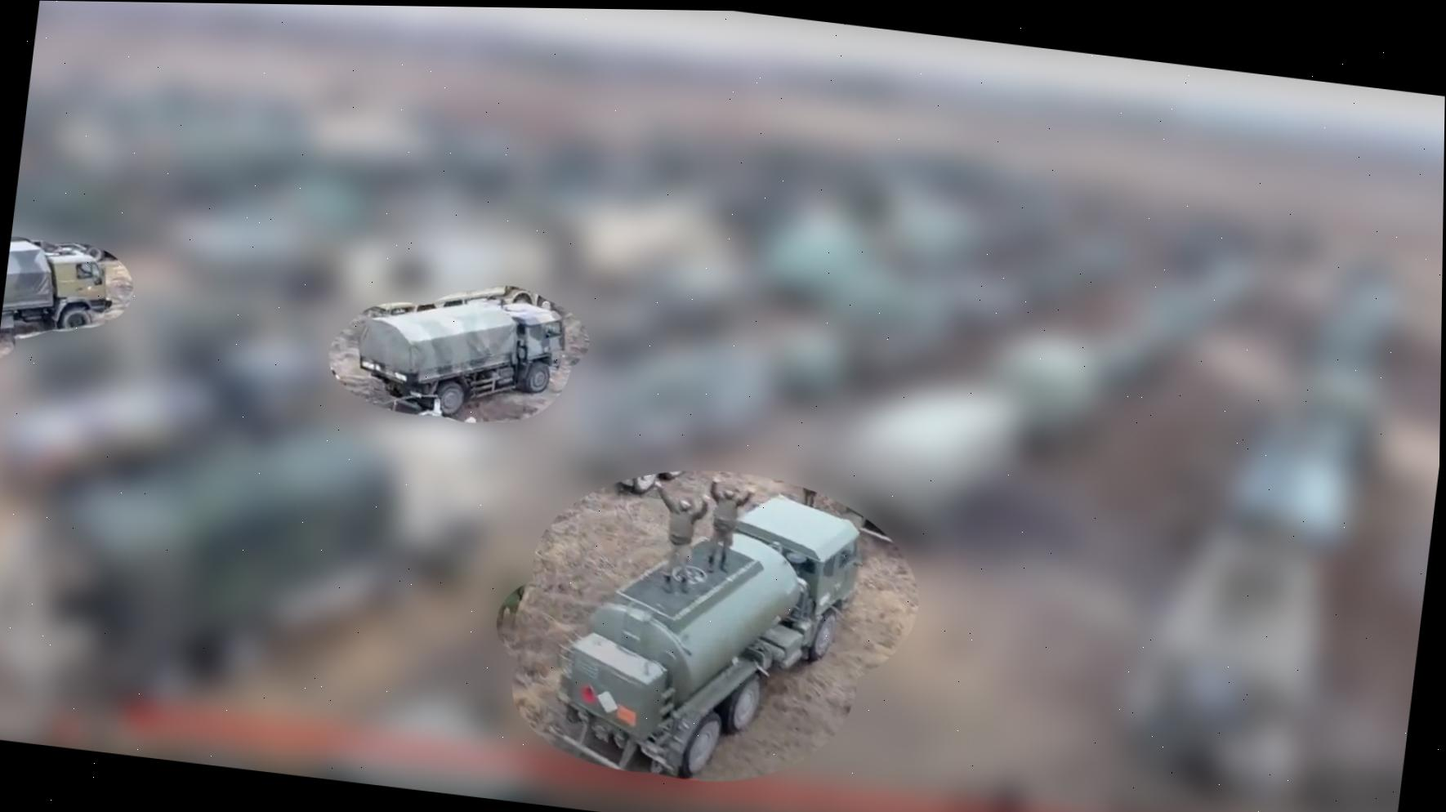truck: (536, 472, 880, 801), (347, 280, 575, 434), (0, 233, 125, 367)
